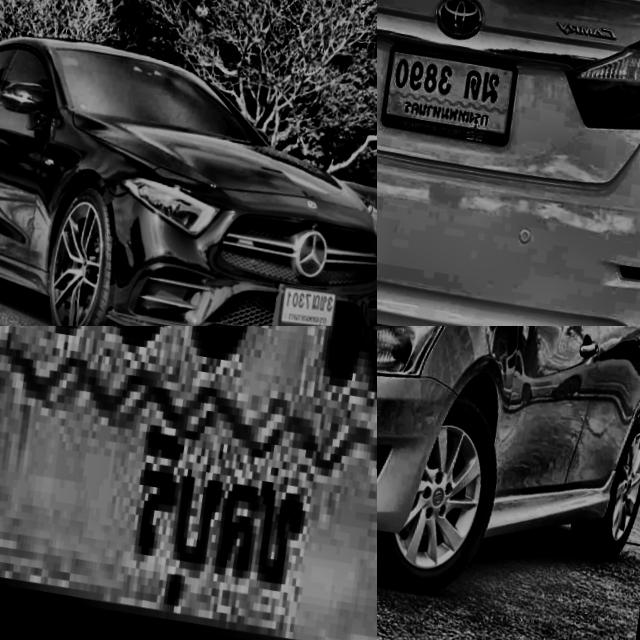license-plate: (0, 326, 377, 640), (377, 33, 517, 148), (265, 274, 337, 326)
